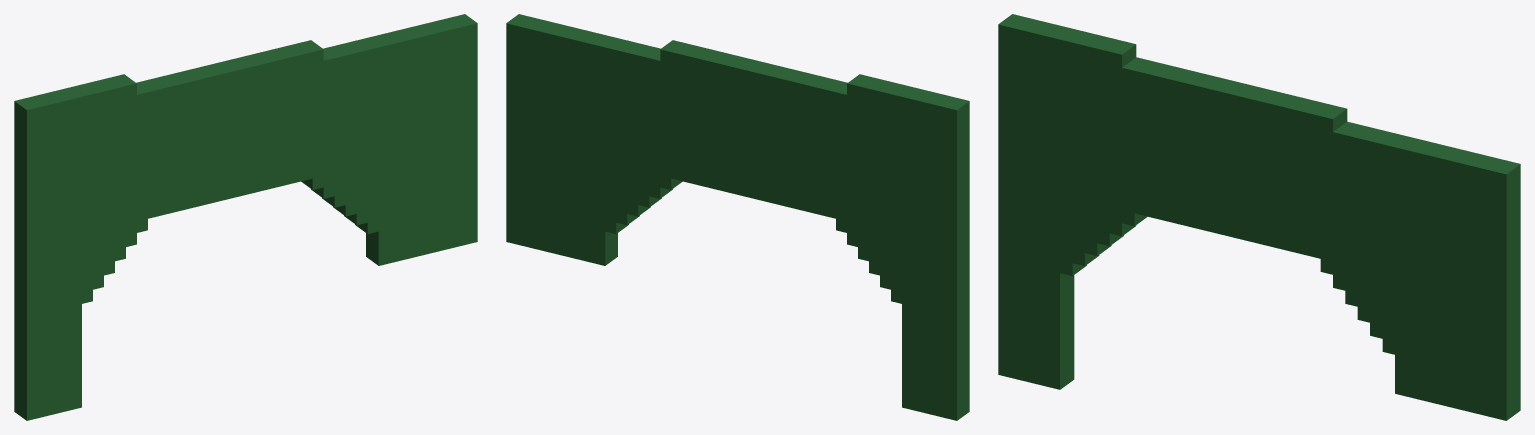
Rendered from suv_front_wing.glb.
3 views of the same model, side by side, from view 1: azimuth 30°, elevation 25°; view 2: azimuth 150°, elevation 25°; view 3: azimuth 330°, elevation 25° (orthographic). The views are drawn at different scales.
Parts seen in each view (by area): view 1: body:compound; view 2: body:compound; view 3: body:compound.
Boxes of the visible parts, x1,y1,x2,y2 form: body:compound: (14, 14, 477, 420); body:compound: (506, 14, 969, 420); body:compound: (998, 14, 1520, 420).
Size of the model in its own units: 1.28 by 0.8438 by 0.0625.
